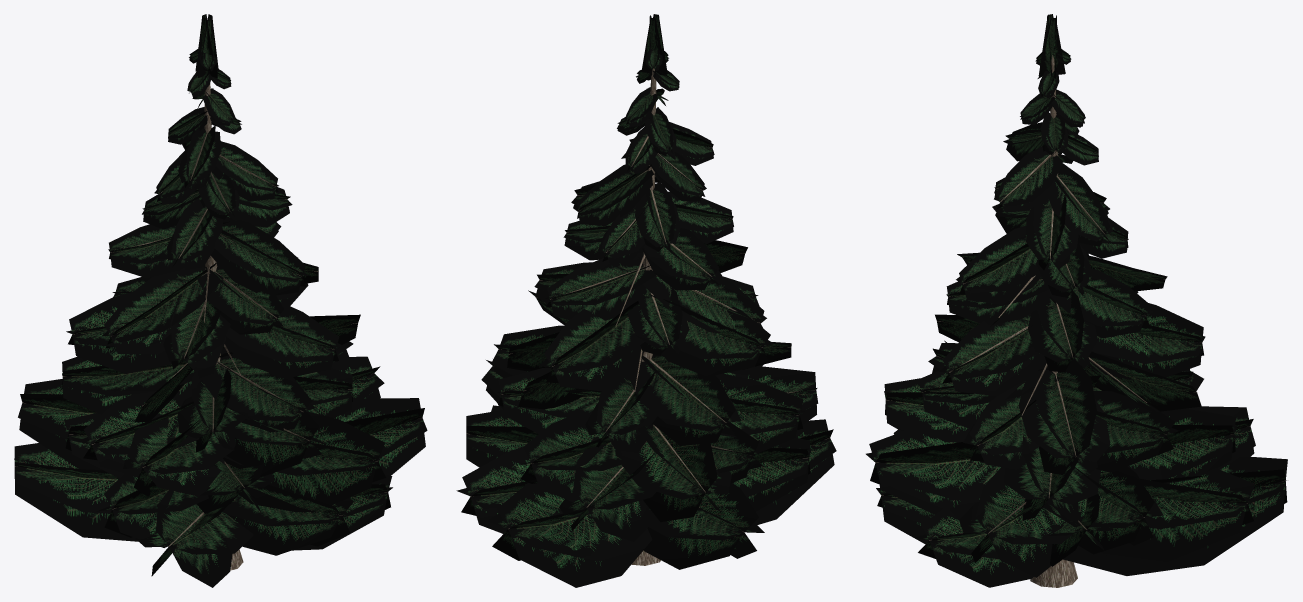
The model's file is pinheiro_vd_b.glb.
3 views of the same model, side by side, from view 1: azimuth 30°, elevation 25°; view 2: azimuth 150°, elevation 25°; view 3: azimuth 270°, elevation 25° (orthographic). The views are drawn at different scales.
Visible parts, largest first — view 1: pinheiro_vd_b; view 2: pinheiro_vd_b; view 3: pinheiro_vd_b.
Boxes of the visible parts, x1=… form: pinheiro_vd_b: x1=14, y1=14, x2=427, y2=587; pinheiro_vd_b: x1=456, y1=14, x2=836, y2=587; pinheiro_vd_b: x1=866, y1=14, x2=1287, y2=587.
Size of the model in its own units: 6.52 by 10.01 by 6.91.
2 materials, 2 textured.
